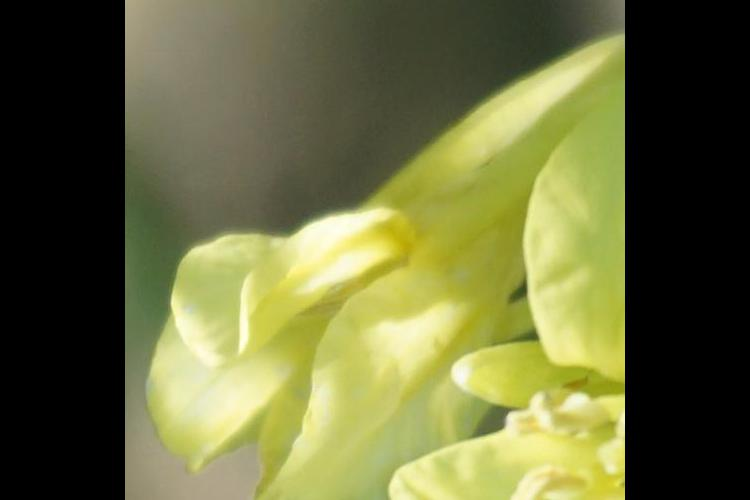bud: (451, 344, 589, 417)
yellow: (153, 1, 591, 500), (390, 90, 626, 500)
